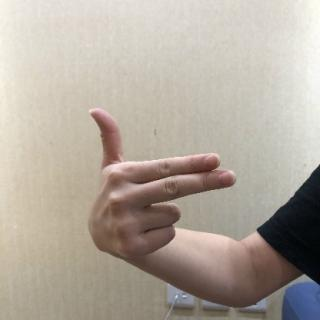GHAYN: (86, 104, 238, 261)
